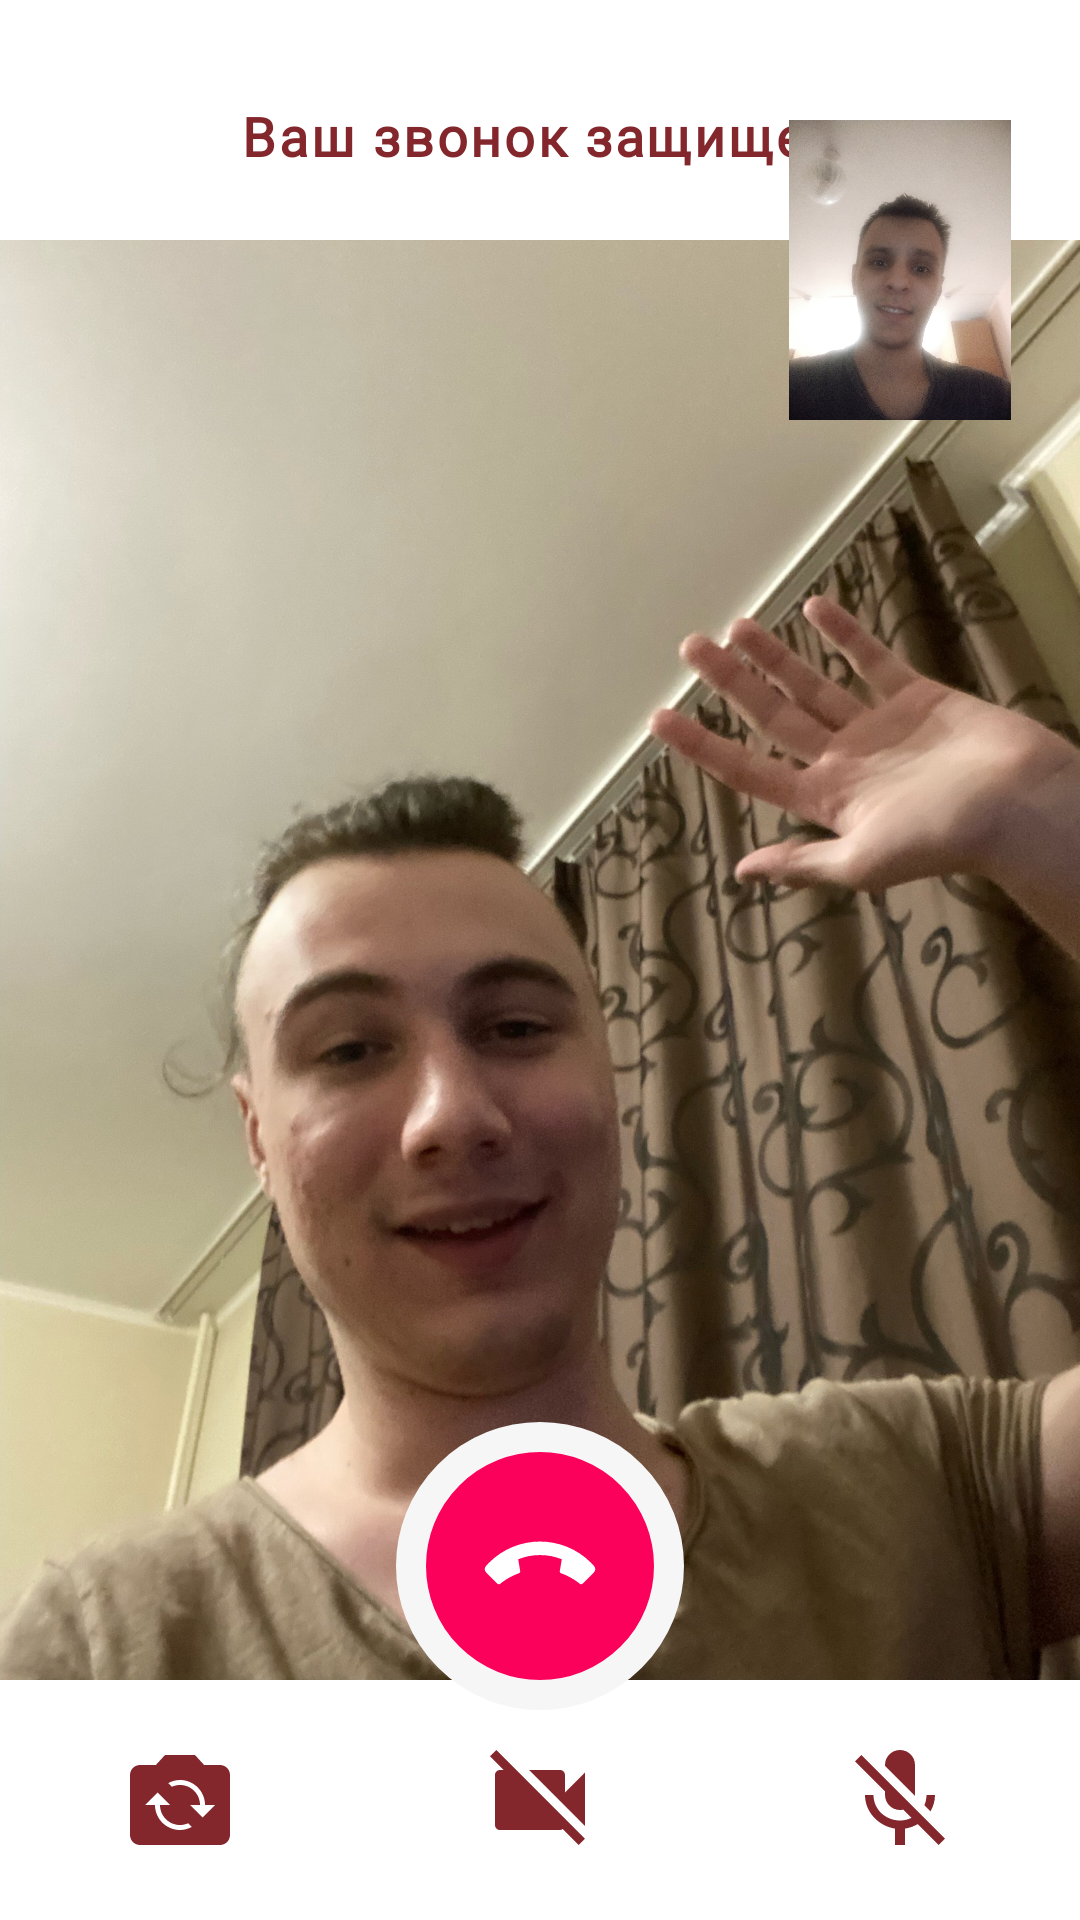

Named icons in this screenshot (1080w x 1920h) and their centers, (x,y):
call end: (540,1566)
flip camera: (180,1800)
mic off: (900,1797)
videocam off: (537,1797)
